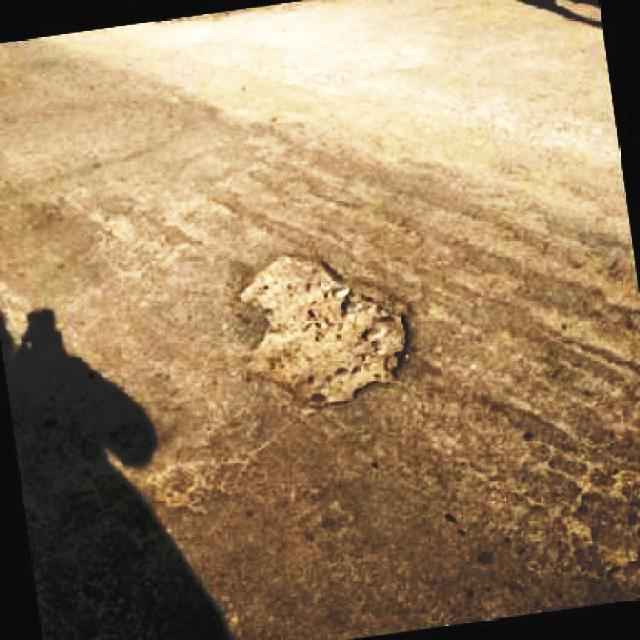pothole: (234, 246, 409, 409)
